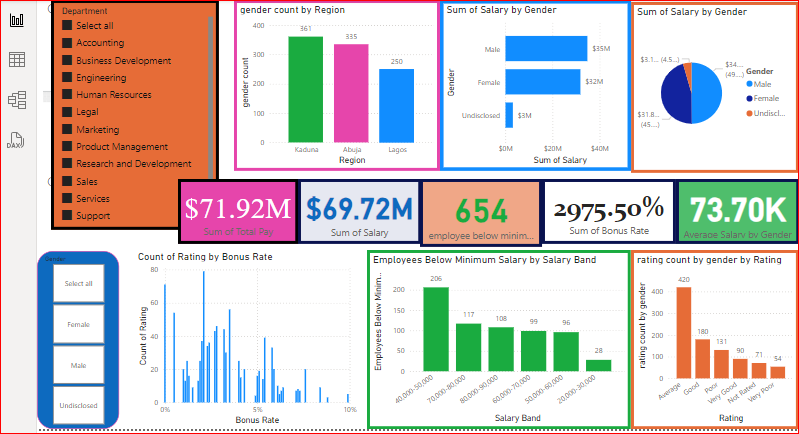

The page's visual inventory and layout, read from the dashboard file:
{"tool":"powerbi","page":{"name":"Page 1","canvas":[1280,720],"ordinal":0},"visuals":[{"type":"tableEx","box":[10.1,0,25.2,280.5],"z":0},{"type":"tableEx","box":[10.1,290.6,13.4,278.8],"z":1000},{"type":"clusteredColumnChart","fields":{"Category":["Employee.Region"],"Y":["Bonus Rules.gender count"]},"box":[330.9,0,346,287.2],"z":2000},{"type":"slicer","box":[10.1,569.4,25.2,151.2],"z":3000},{"type":"slicer","fields":{"Values":["Employee.Department"]},"box":[23.5,0,282.2,386.4],"z":4000},{"type":"columnChart","fields":{"Category":["Employee.Rating"],"Y":["Employee.rating count by gender"]},"box":[997.8,419.9,282.2,300.7],"z":5000},{"type":"slicer","fields":{"Values":["Employee.Gender"]},"box":[0,421.6,137.7,299],"z":6000},{"type":"pieChart","fields":{"Category":["Employee.Gender"],"Y":["Sum(Employee.Salary)"]},"box":[997.8,3.4,282.2,287.2],"z":7000},{"type":"clusteredBarChart","fields":{"Category":["Employee.Gender"],"Y":["Sum(Employee.Salary)"]},"box":[677,0,320.8,287.2],"z":8000},{"type":"lineClusteredColumnComboChart","fields":{"Y":["Employee.Employees Below Minimum Salary"],"Category":["Employee.Salary Band"]},"box":[554.3,419.9,443.5,300.7],"z":9000},{"type":"clusteredColumnChart","fields":{"Category":["Employee.Bonus Rate"],"Y":["CountNonNull(Employee.Rating)"]},"box":[164.6,419.9,378,299],"z":10000},{"type":"card","fields":{"Values":["Sum(Employee.Total Pay)"]},"box":[236.9,300.7,201.6,109.2],"z":11000},{"type":"card","fields":{"Values":["Sum(Employee.Salary)"]},"box":[438.4,300.7,206.6,109.2],"z":12000},{"type":"card","fields":{"Values":["Employee.employee below minimum salary"]},"box":[643.4,300.7,204.9,114.2],"z":13000},{"type":"card","fields":{"Values":["Sum(Employee.Bonus Rate)"]},"box":[848.3,300.7,225.1,109.2],"z":14000},{"type":"card","fields":{"Values":["Employee.Average Salary by Gender"]},"box":[1073.4,300.7,206.6,109.2],"z":15000}]}

Visuals, with their boxes in screenshot pixels (x1, y1, x2, y2):
tableEx: <box>39,0,54,165</box>
tableEx: <box>39,171,47,337</box>
clusteredColumnChart - Employee.Region x Bonus Rules.gender count: <box>230,0,436,169</box>
slicer: <box>39,337,54,427</box>
slicer - Employee.Department: <box>47,0,215,228</box>
columnChart - Employee.Rating x Employee.rating count by gender: <box>628,248,796,427</box>
slicer - Employee.Gender: <box>33,249,115,427</box>
pieChart - Employee.Gender x Sum(Employee.Salary): <box>628,0,796,171</box>
clusteredBarChart - Employee.Gender x Sum(Employee.Salary): <box>437,0,628,169</box>
lineClusteredColumnComboChart - Employee.Employees Below Minimum Salary x Employee.Salary Band: <box>363,248,628,427</box>
clusteredColumnChart - Employee.Bonus Rate x CountNonNull(Employee.Rating): <box>131,248,356,426</box>
card - Sum(Employee.Total Pay): <box>174,177,294,242</box>
card - Sum(Employee.Salary): <box>294,177,417,242</box>
card - Employee.employee below minimum salary: <box>417,177,539,245</box>
card - Sum(Employee.Bonus Rate): <box>539,177,673,242</box>
card - Employee.Average Salary by Gender: <box>673,177,796,242</box>
